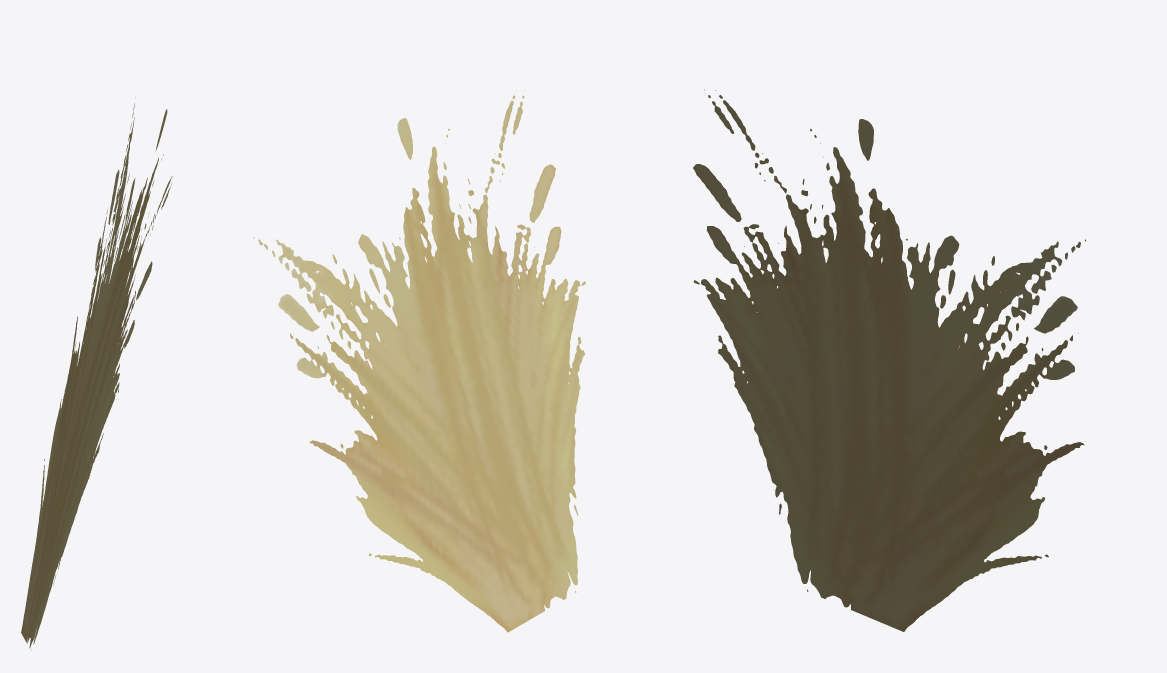
Rendered from grass2_006.fbx.
The picture shows the model from 3 angles, left to right: view 1: azimuth 30°, elevation 25°; view 2: azimuth 150°, elevation 25°; view 3: azimuth 270°, elevation 25°; orthographic projection. The views are drawn at different scales.
Parts seen in each view (by area): view 1: grass2.006; view 2: grass2.006; view 3: grass2.006.
Boxes of the visible parts, left/top/right/bottom form: grass2.006: left=21, top=98, right=172, bottom=650; grass2.006: left=253, top=90, right=585, bottom=632; grass2.006: left=693, top=89, right=1085, bottom=631.
Size of the model in its own units: 110 by 241 by 159.
